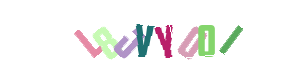8: (87, 0, 167, 80)
I: (179, 0, 259, 80)
J: (103, 0, 183, 80)
L: (75, 0, 155, 80)
O: (125, 0, 205, 80), (169, 0, 249, 80)
V: (108, 0, 188, 80)
Y: (109, 0, 189, 80)
